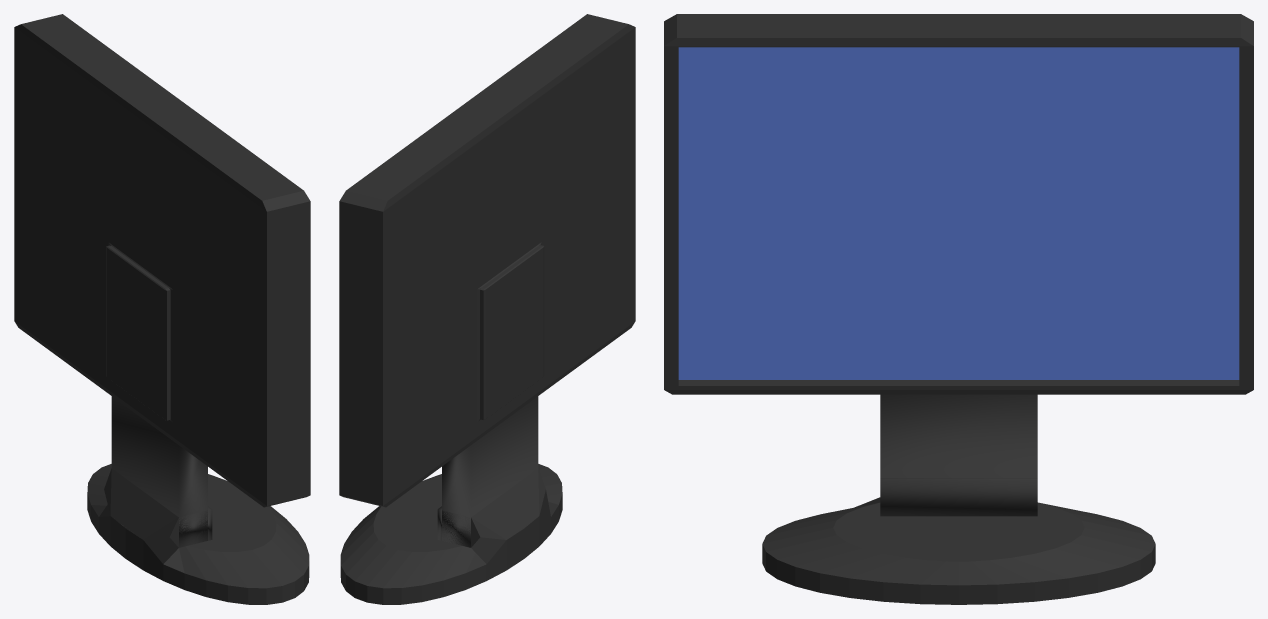
The model's file is monitor.glb.
3 views of the same model, side by side, from view 1: azimuth 30°, elevation 25°; view 2: azimuth 150°, elevation 25°; view 3: azimuth 270°, elevation 25° (orthographic). The views are drawn at different scales.
Parts seen in each view (by area): view 1: Cube; view 2: Cube; view 3: Cube.
Boxes of the visible parts, box(x1,y1,x2,y2) form: Cube: box(14, 14, 310, 604); Cube: box(339, 14, 635, 604); Cube: box(664, 14, 1253, 604).
Bounding box in the file's own units: 0.5 × 1.45 × 1.5.
